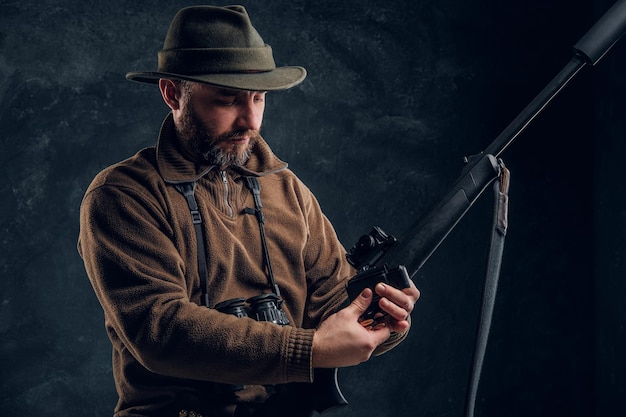gun: (334, 1, 626, 312)
